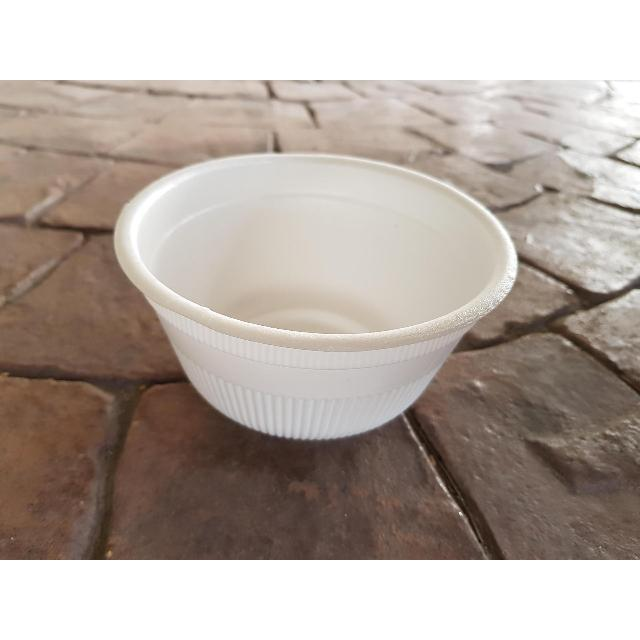Plastico descartable: (112, 153, 519, 443)
